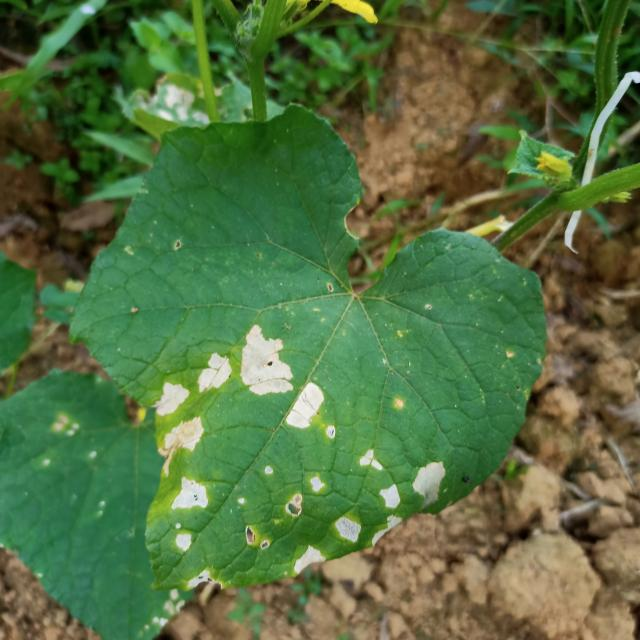disease_cucumber: (242, 322, 326, 431), (360, 448, 444, 510), (156, 382, 204, 449), (173, 477, 209, 557), (331, 513, 397, 542), (282, 476, 324, 516), (198, 351, 234, 395), (289, 544, 323, 572)
